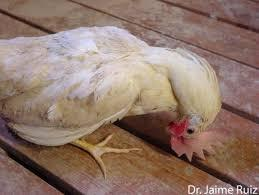AbNormal: (11, 16, 229, 173)
